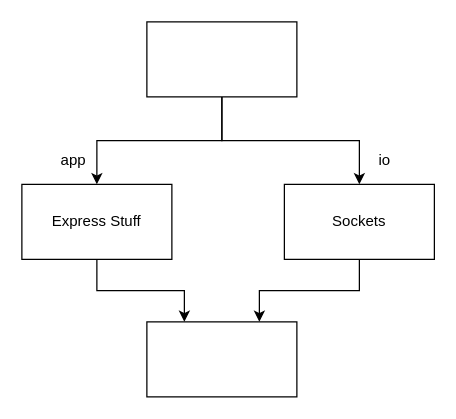
The diagram is 456 pixels wide and 419 high, and some of its shapes have lost their labels. The box of each missing label's shape, as (x1, y1, x2, y2) in pixels:
index,js: (146, 321, 297, 397)
Servers - io - app: (146, 21, 297, 97)
